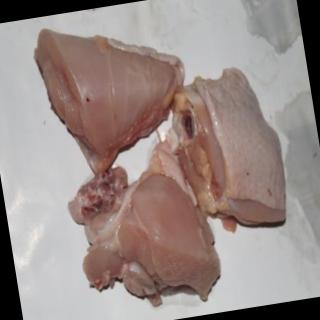Ayam: (33, 10, 198, 183), (63, 153, 227, 320), (165, 64, 296, 241)
